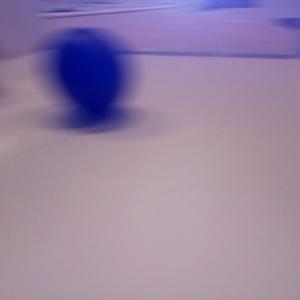dead_ball: (45, 28, 125, 113)
